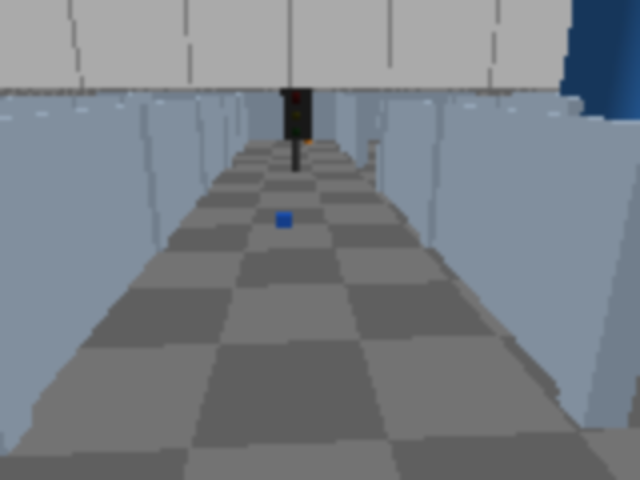puck: (275, 212, 292, 229)
